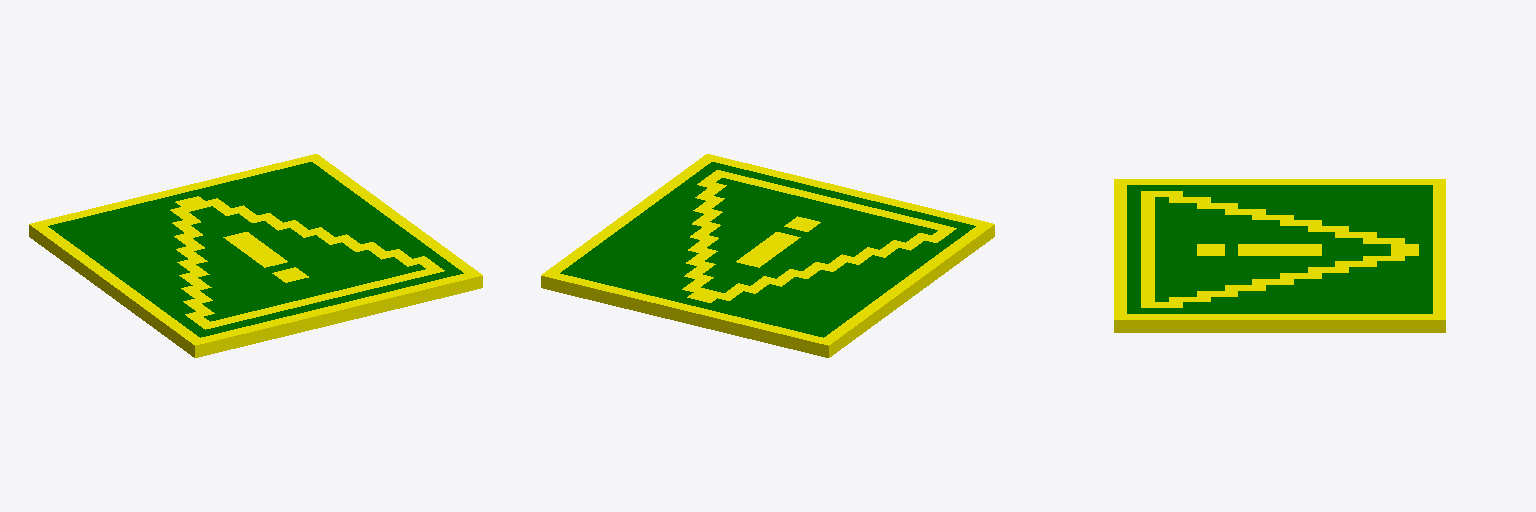
3 views of the same model, side by side, from view 1: azimuth 30°, elevation 25°; view 2: azimuth 150°, elevation 25°; view 3: azimuth 270°, elevation 25° (orthographic).
Parts seen in each view (by area): view 1: object 1; view 2: object 1; view 3: object 1.
Boxes of the visible parts, x1=… form: object 1: x1=29, y1=154, x2=482, y2=357; object 1: x1=541, y1=154, x2=994, y2=357; object 1: x1=1114, y1=179, x2=1445, y2=332.
Bounding box in the file's own units: 2.4 × 0.1 × 2.4.
Materials: 1 (1 with a texture image).